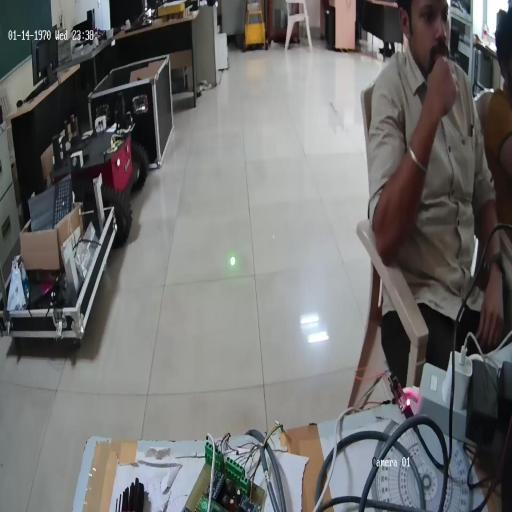laser: (229, 254, 236, 268)
